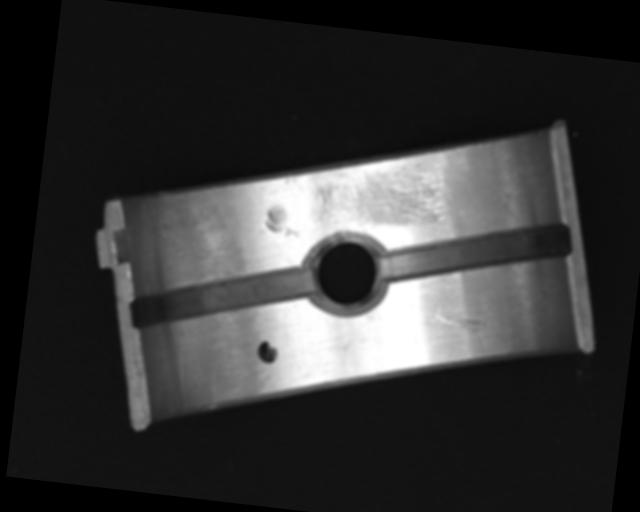blot: (255, 340, 279, 365)
bruise: (263, 203, 304, 239), (283, 170, 301, 186)
gap: (129, 247, 314, 350), (379, 203, 570, 300)
hole: (301, 226, 393, 321)
nick: (422, 310, 487, 335)
scratch: (305, 148, 454, 241)
